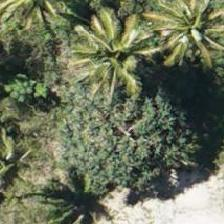coconut_tree: (73, 10, 163, 100), (150, 0, 223, 74)
